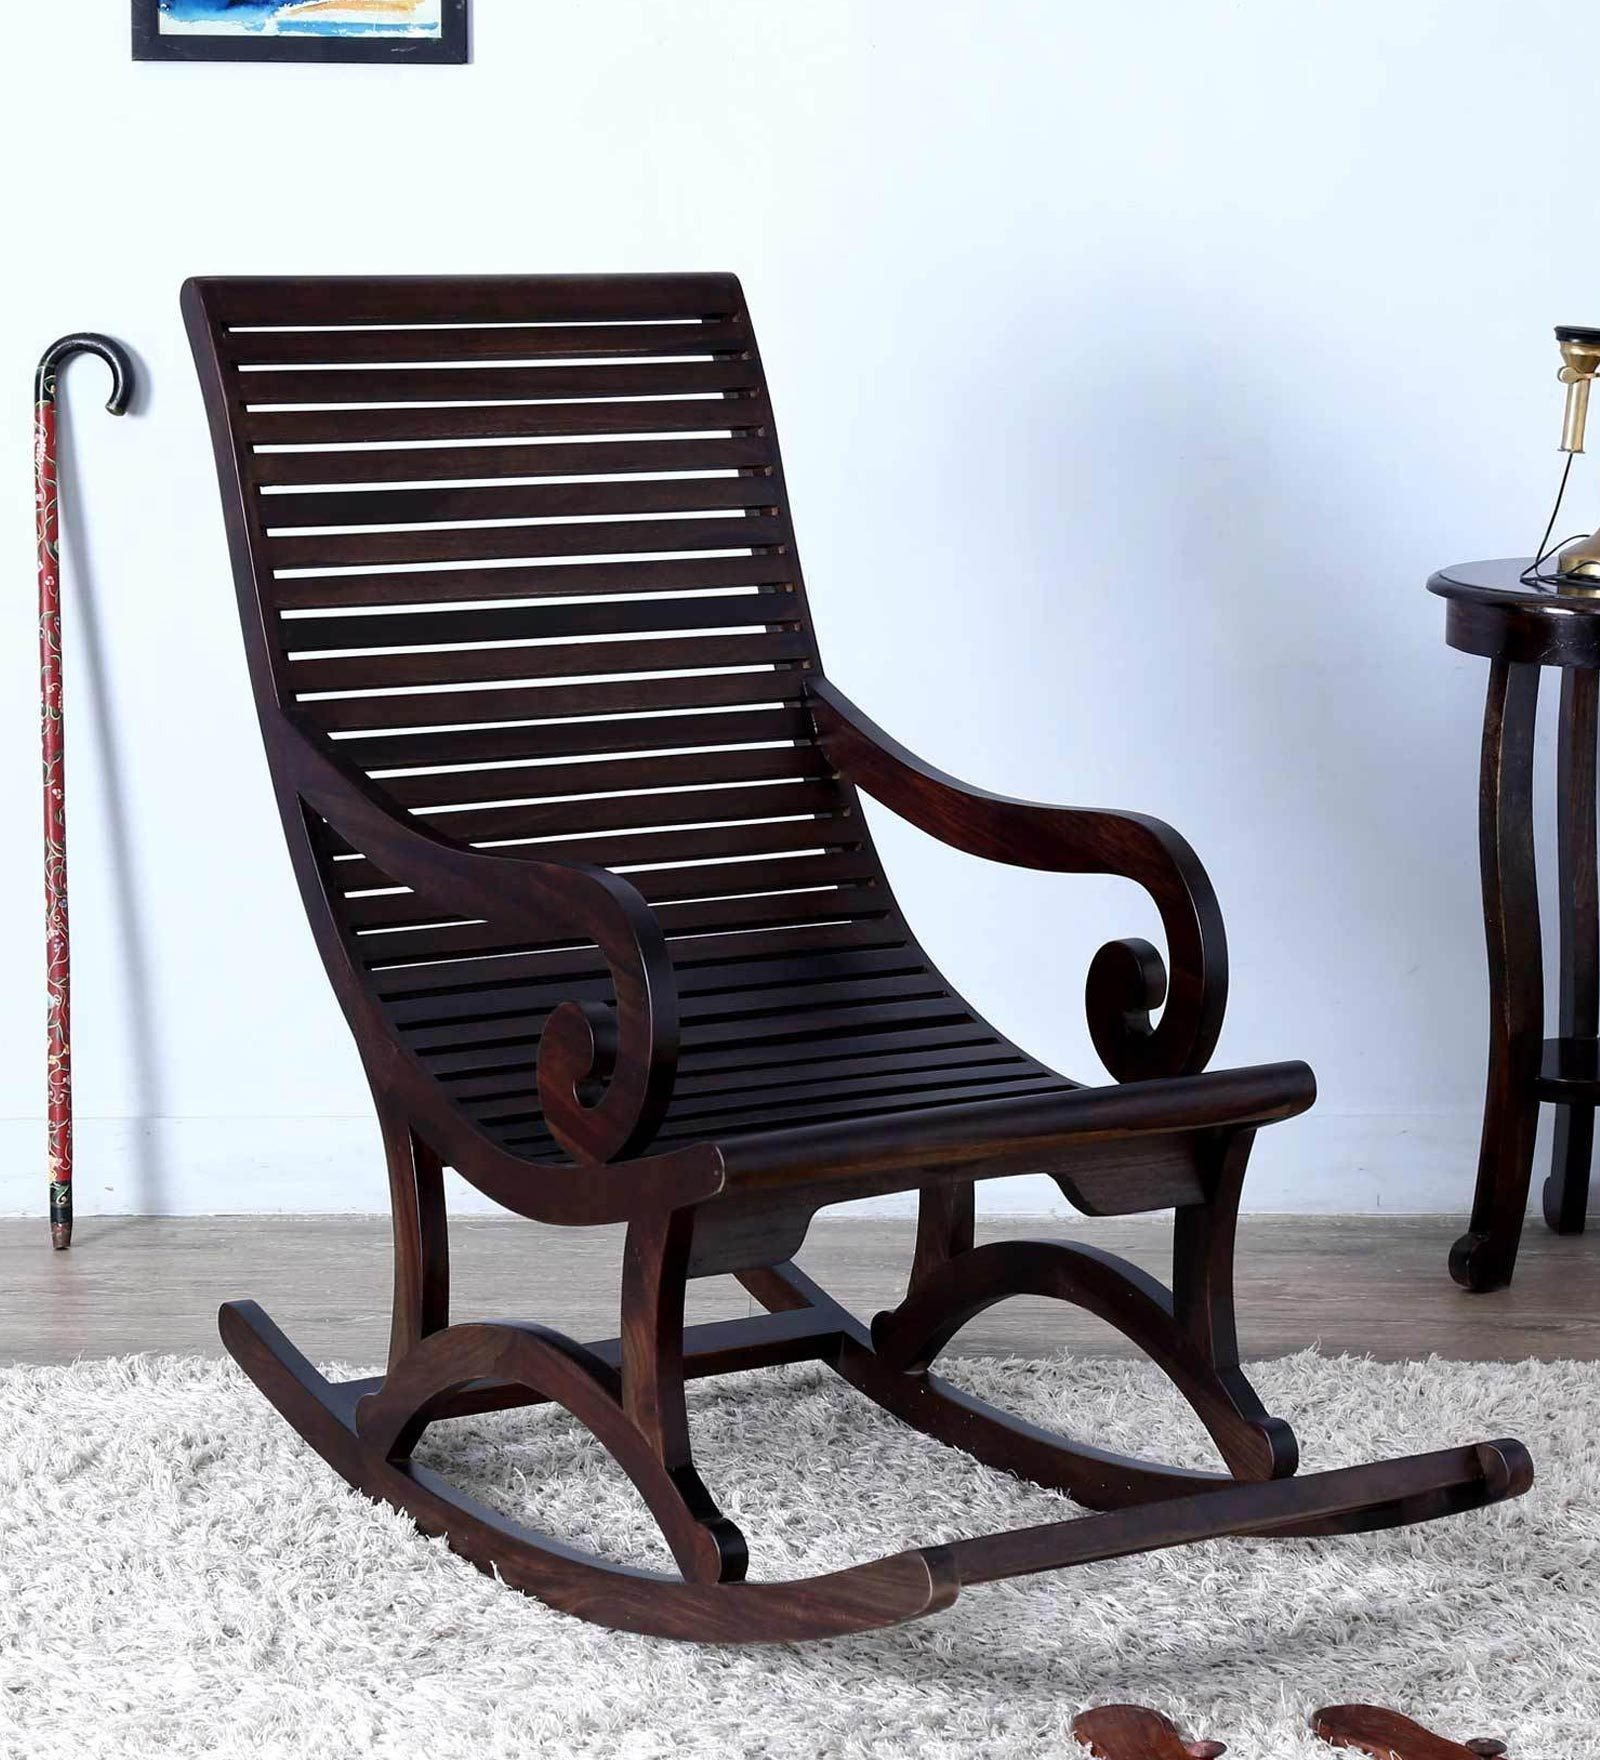Wellesley Rocking Chair in Warm Chestnut Finish by Amberville: (152, 244, 1560, 1642)
